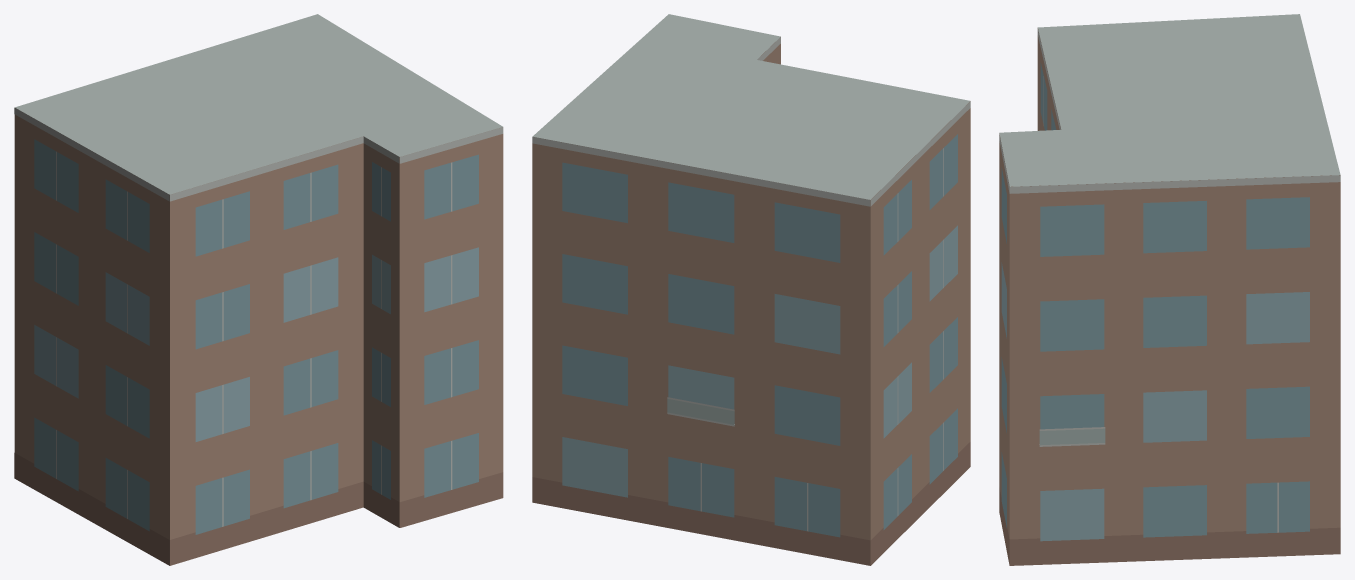
Rendered from survey-upis-32561920.glb.
The picture shows the model from 3 angles, left to right: view 1: azimuth 30°, elevation 25°; view 2: azimuth 150°, elevation 25°; view 3: azimuth 270°, elevation 25°; orthographic projection. The views are drawn at different scales.
Visible parts, largest first — view 1: survey-upis-32561920.tmp; view 2: survey-upis-32561920.tmp; view 3: survey-upis-32561920.tmp.
Boxes of the visible parts, x1,y1,x2,y2 form: survey-upis-32561920.tmp: (14,14,503,565); survey-upis-32561920.tmp: (532,14,970,565); survey-upis-32561920.tmp: (999,14,1340,565).
Bounding box in the file's own units: 12.92 × 13.2 × 10.78.
